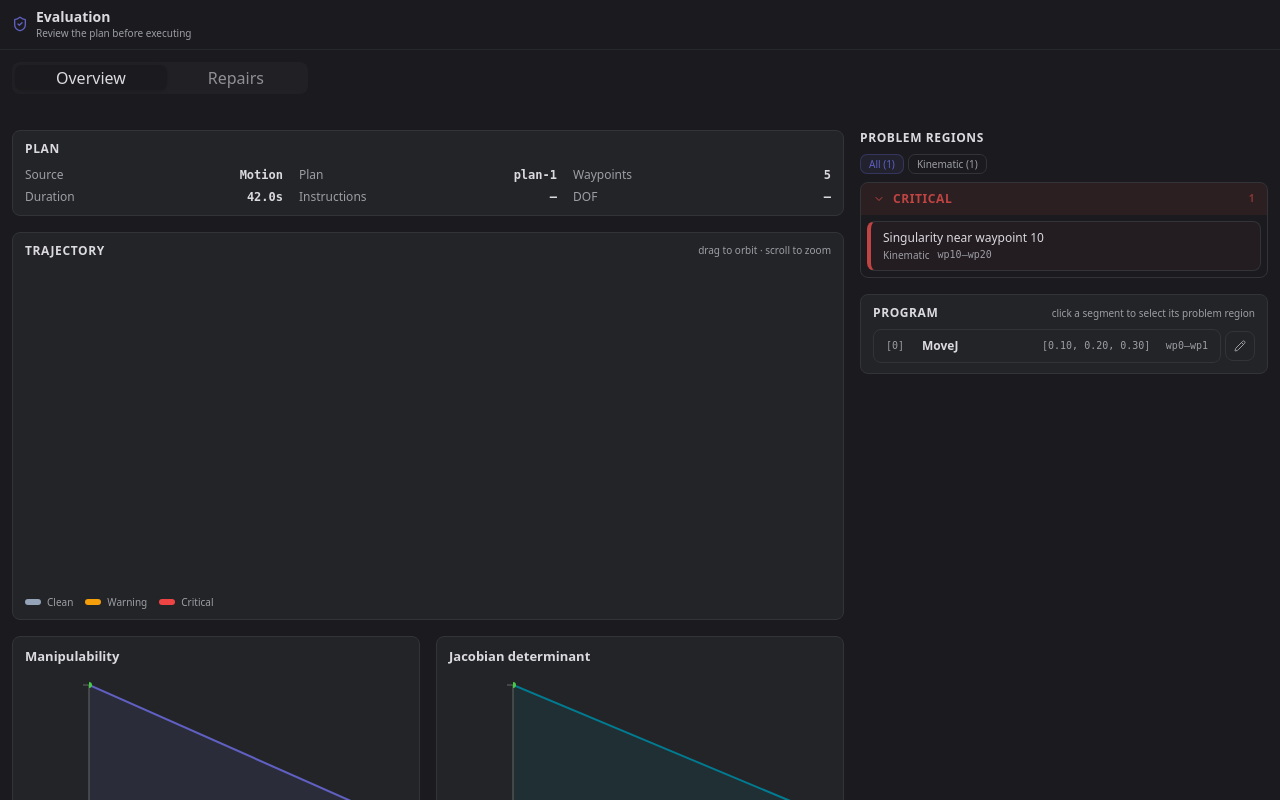
Test case: EvaluationWorkspace — master-detail layout (context | action) › keeps the Problem Regions list mounted and shows the RegionInspector when a region is selected
This screenshot has width=1280, height=800.
Step 1. Click the button "Singularity near waypoint 10 Kinematic wp10–wp20" → (963, 237), box [867, 221, 1261, 271]
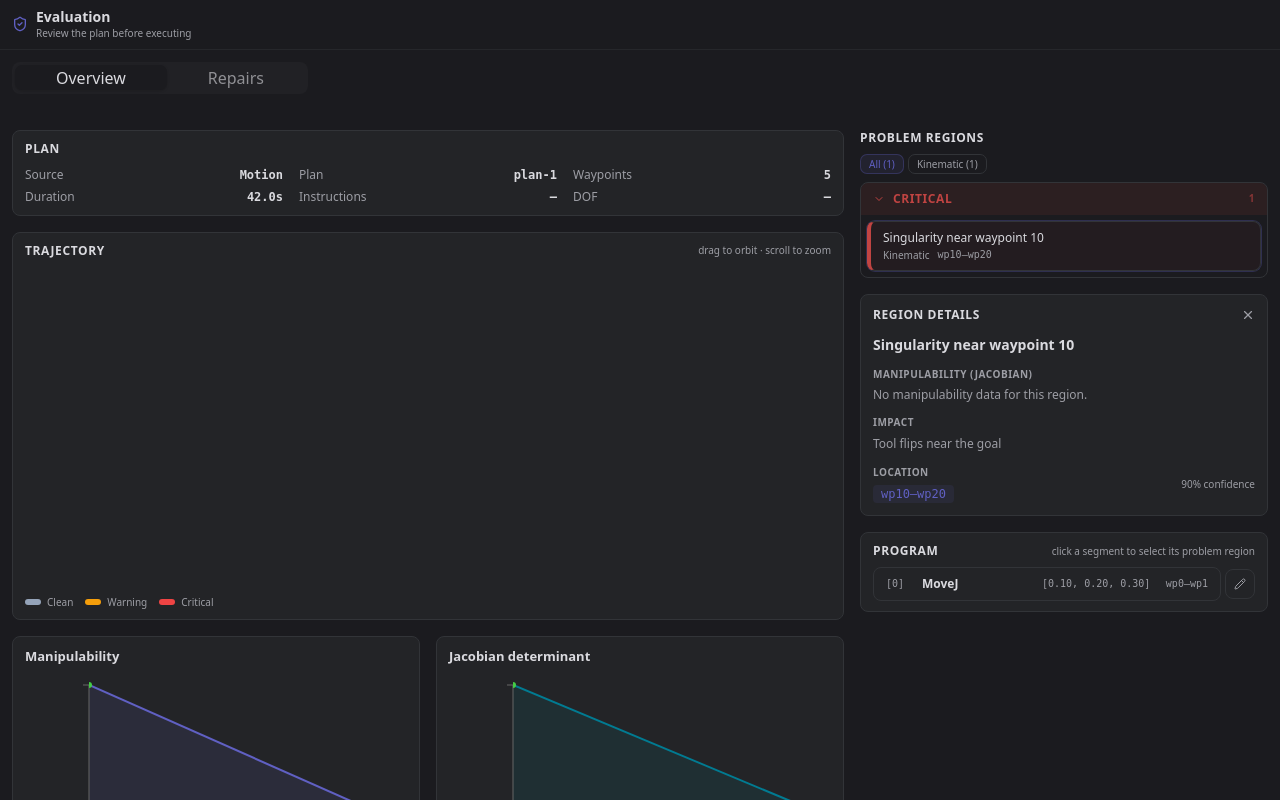
Expected: the heading "Problem Regions" is shown, [860, 128, 984, 146]
Result: the heading "Region Details" is shown at [873, 307, 980, 323]
